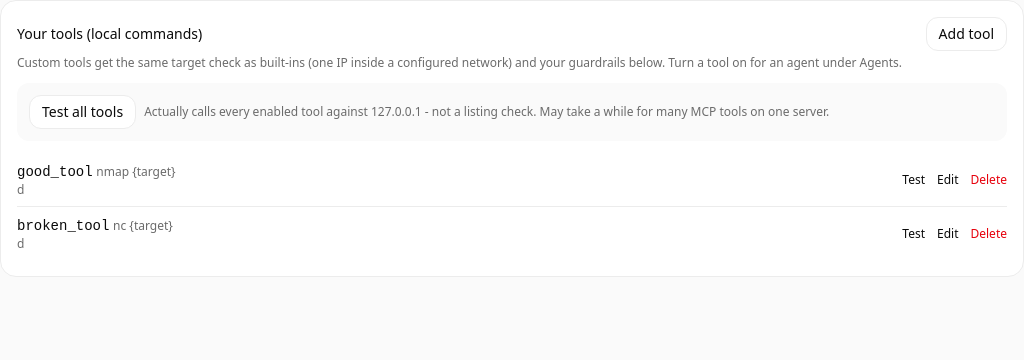
Test: CustomToolsEditor › tests one tool on its own row, and tests all tools at once
Expected: the list item "good_tool" is shown, [17,164,93,180]
Click the button "Test" in the row of "good_tool" at coordinates (914, 180), box [902,172,925,188]
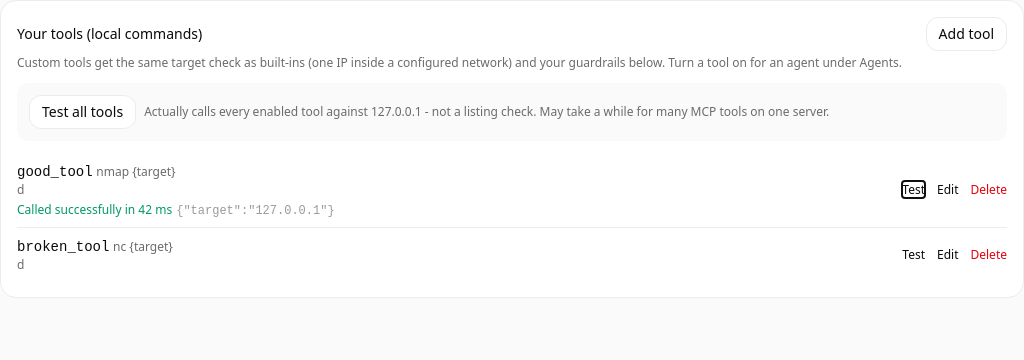
Result: the text "Called successfully in 42 ms{\"target\":\"127.0.0.1\"}" is shown at [17,201,335,218]
Click the button "Test all tools" at coordinates (83, 112), box [29,95,136,129]
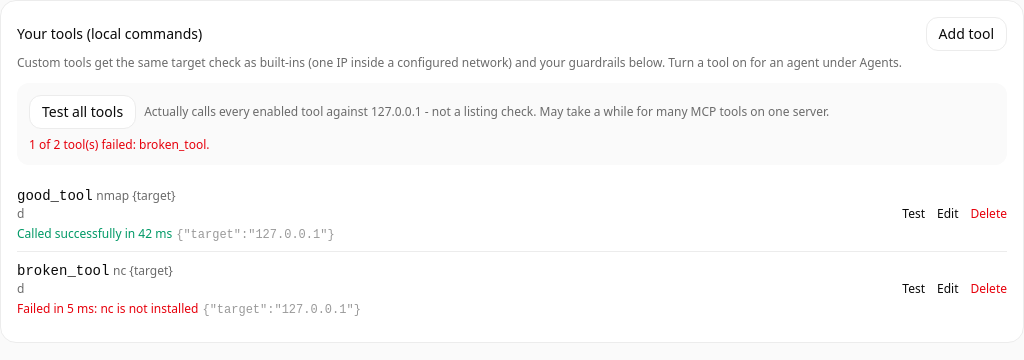
Result: the text "1 of 2 tool(s) failed: broken_tool." is shown at [29,137,210,153]
Result: the text "Failed in 5 ms: nc is not installed{\"target\":\"127.0.0.1\"}" is shown at [17,300,361,317]
